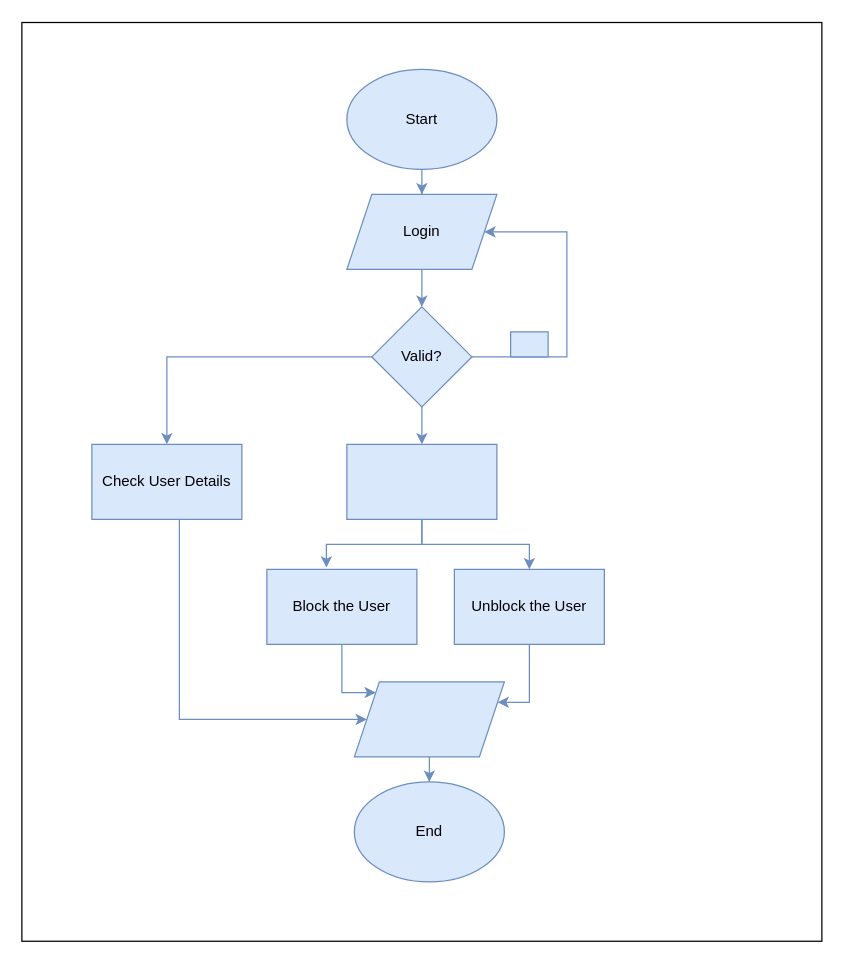
Some shapes in this 844 by 963 pixel diagram are drawn without their labels. The centre of each missing label's shape, as x and y in pixels:
Log Out: (x=428, y=719)
Maintain Users State: (x=421, y=481)
No: (x=528, y=344)
